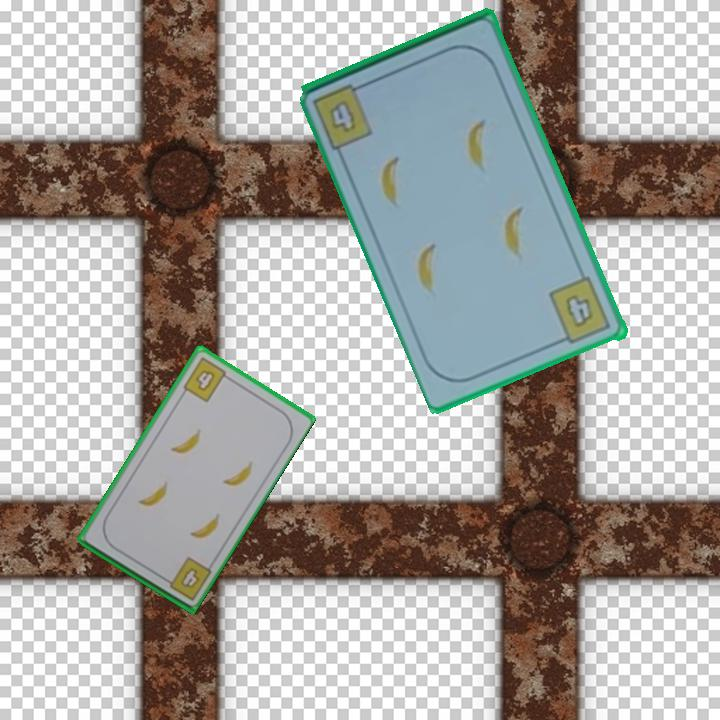4b: (546, 274, 615, 347), (309, 78, 376, 153), (179, 353, 234, 405), (159, 553, 214, 603)
